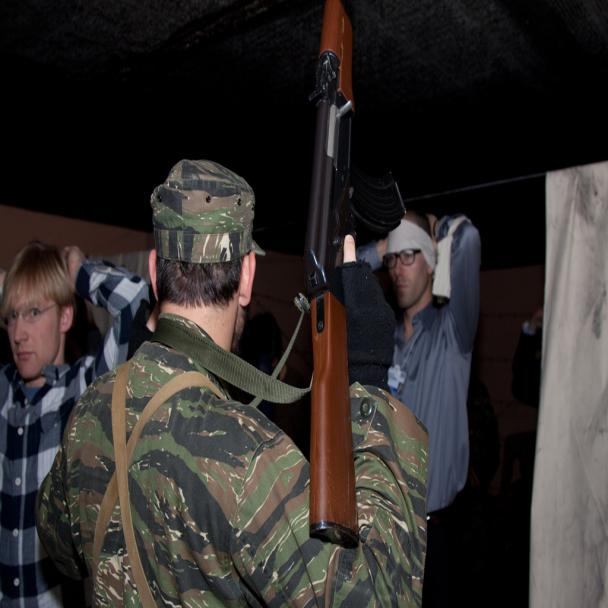Gun: (294, 0, 376, 556)
